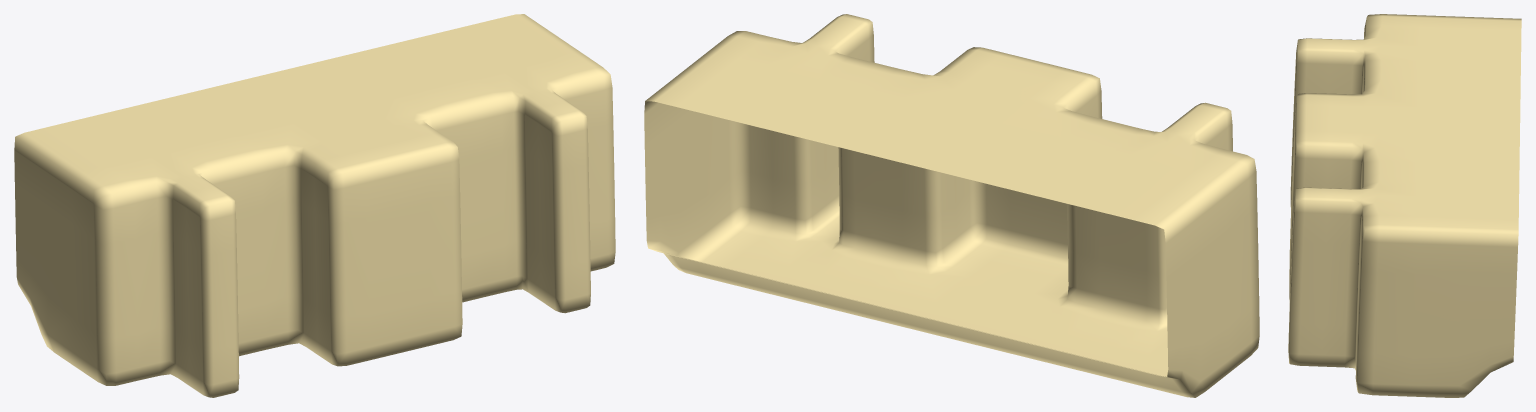
Rendered from Key 5.fbx.
The picture shows the model from 3 angles, left to right: view 1: azimuth 30°, elevation 25°; view 2: azimuth 150°, elevation 25°; view 3: azimuth 270°, elevation 25°; orthographic projection. The views are drawn at different scales.
Parts seen in each view (by area): view 1: Cylinder; view 2: Cylinder; view 3: Cylinder.
Boxes of the visible parts, x1,y1,x2,y2 form: Cylinder: [14, 14, 615, 397]; Cylinder: [644, 14, 1259, 397]; Cylinder: [1288, 14, 1521, 397].
Bounding box in the file's own units: 16.52 × 6.13 × 7.48.
